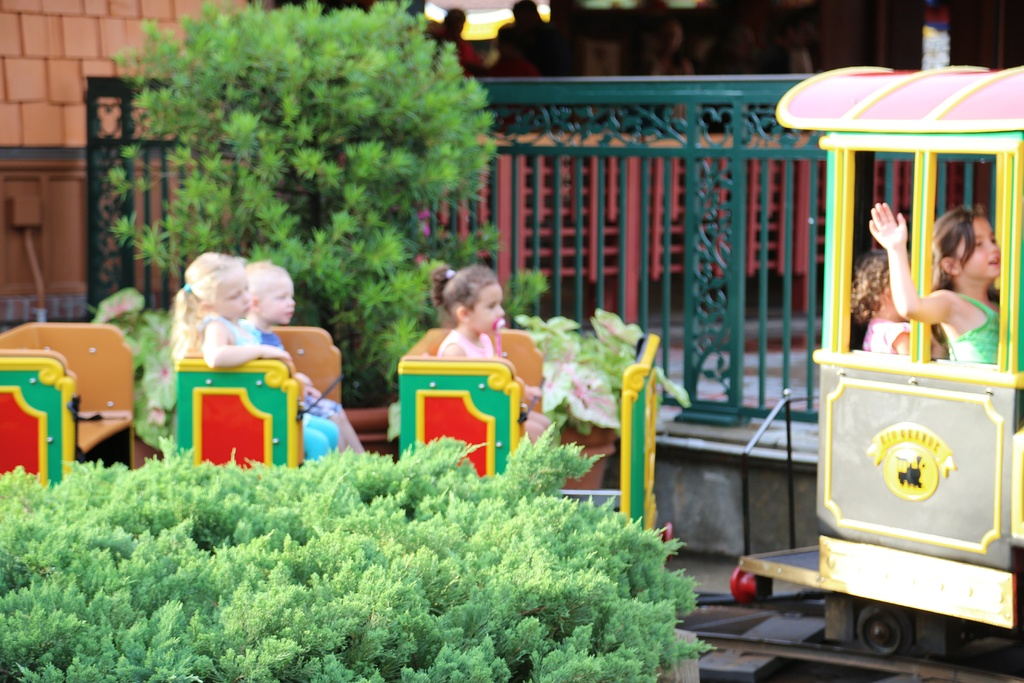Human_hand: (866, 202, 903, 253), (258, 339, 292, 357), (524, 381, 544, 404)
